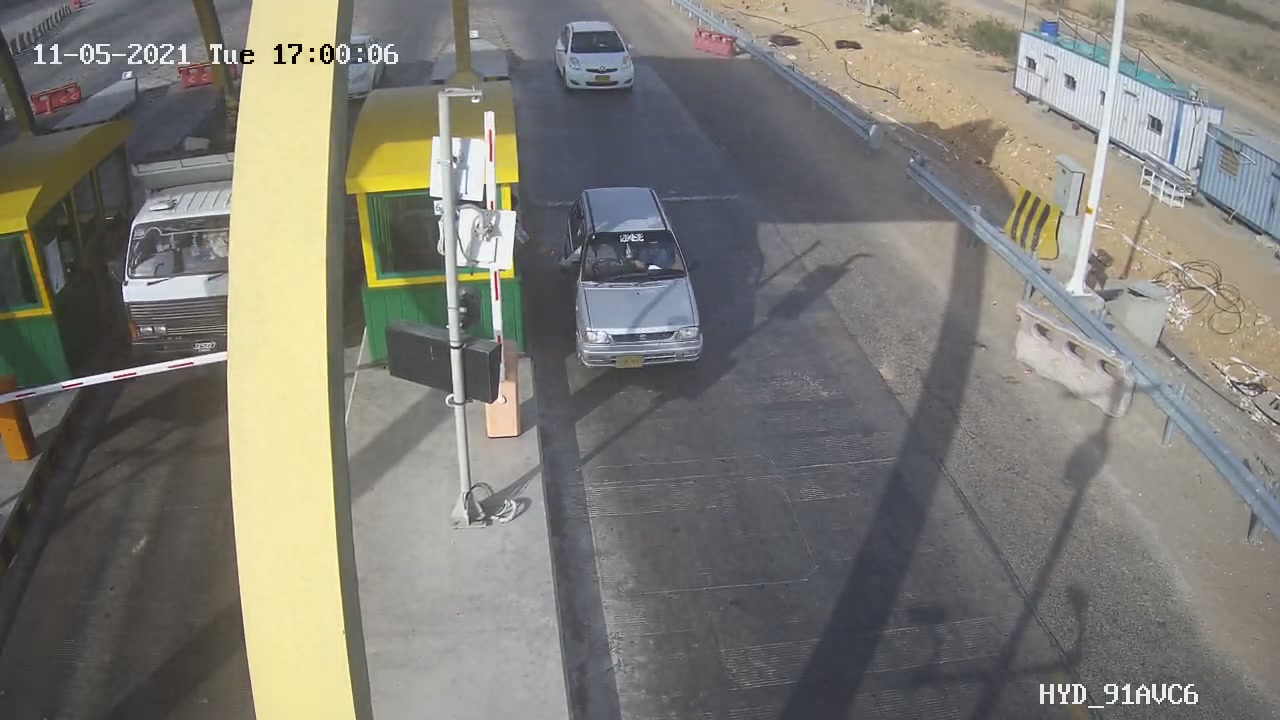F1: (547, 174, 721, 388), (548, 11, 648, 107)
